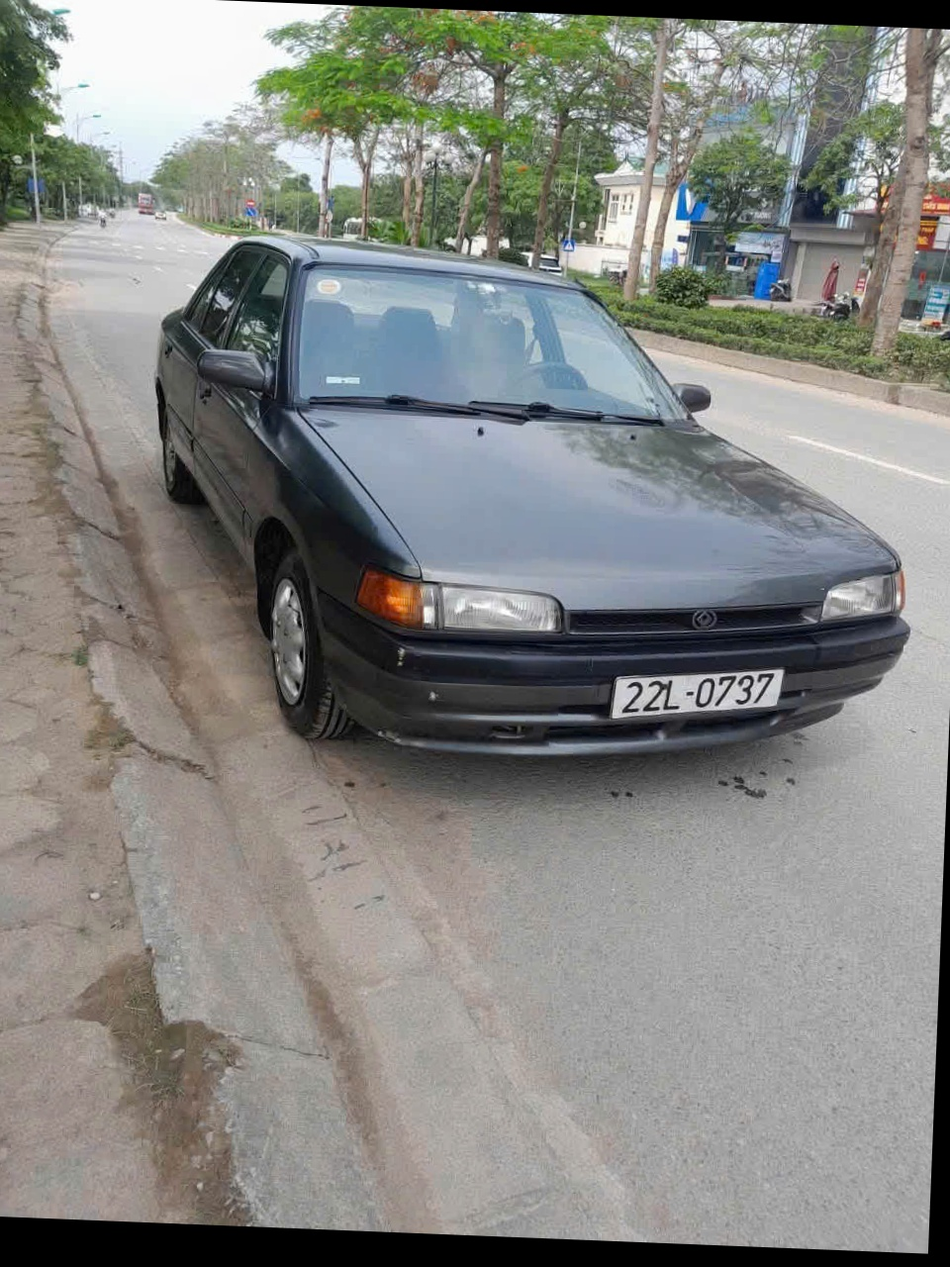Bien-so: (600, 702, 781, 774)
